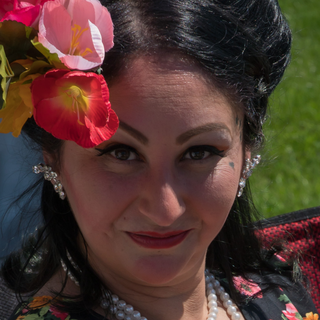eye: (92, 140, 146, 165), (174, 142, 230, 166)
